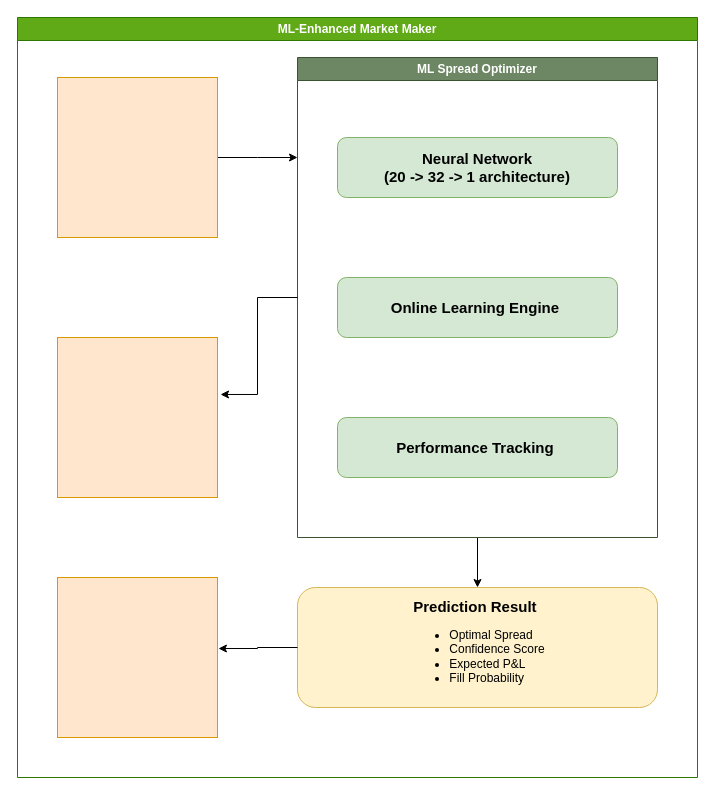
Image size: 715x795. Some labels were removed from this diagram. The centre of each missing label's shape, as x and y in pixels:
"Feature Extraction Price Features Volume Data Order Book Time/Regime Position" goes at (137,157).
"Risk Management Confidence Deviation Validation" goes at (137,417).
"Spread Decision ML Prediction Heuristic Final Choice" goes at (137,657).
